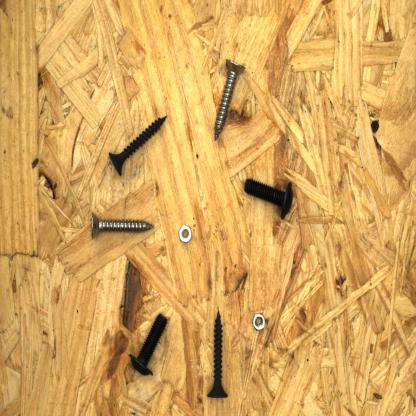screw: (104, 111, 170, 180), (212, 51, 249, 145), (125, 309, 169, 380), (240, 171, 298, 221), (203, 305, 232, 404), (84, 209, 158, 241)
